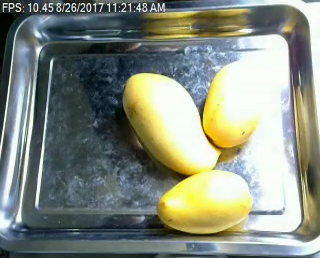Mango: (124, 72, 220, 174), (159, 170, 253, 234), (201, 60, 270, 145)
